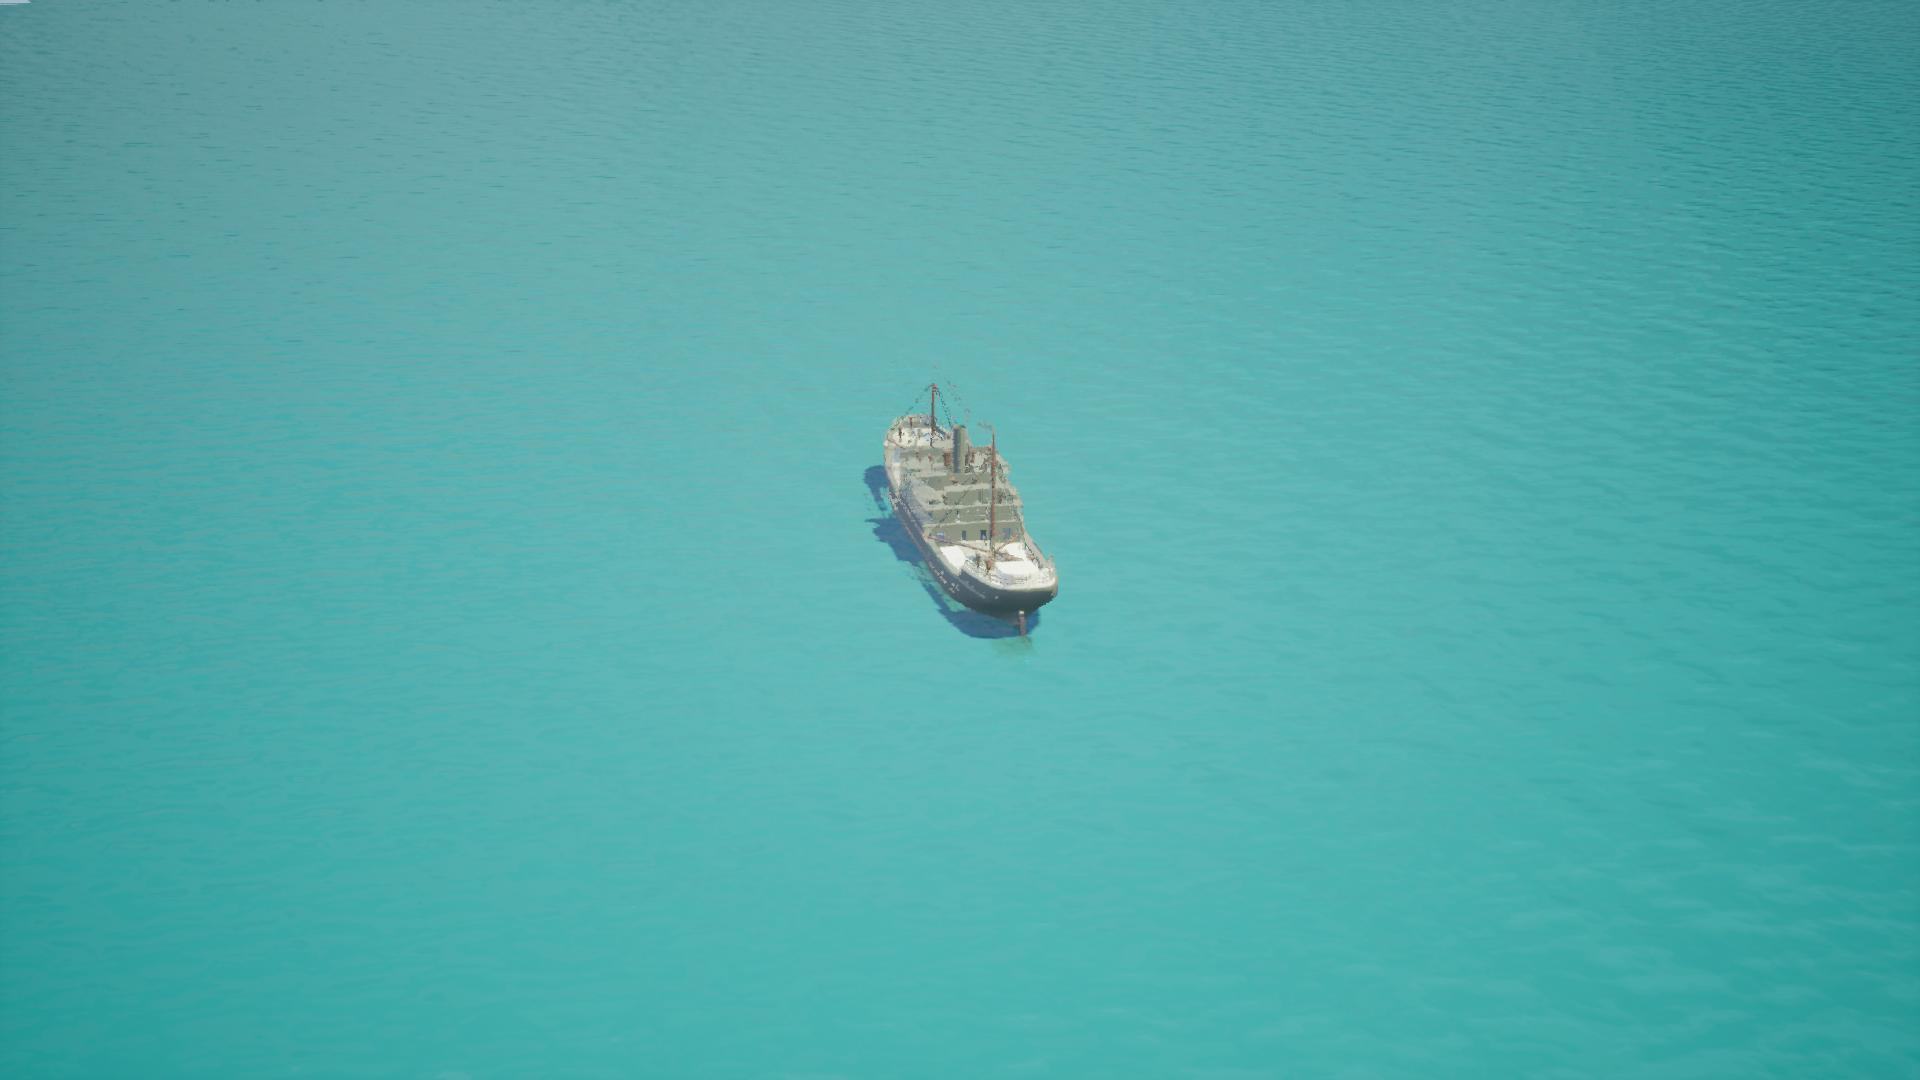Fishing Boat: (870, 381, 1055, 641)
